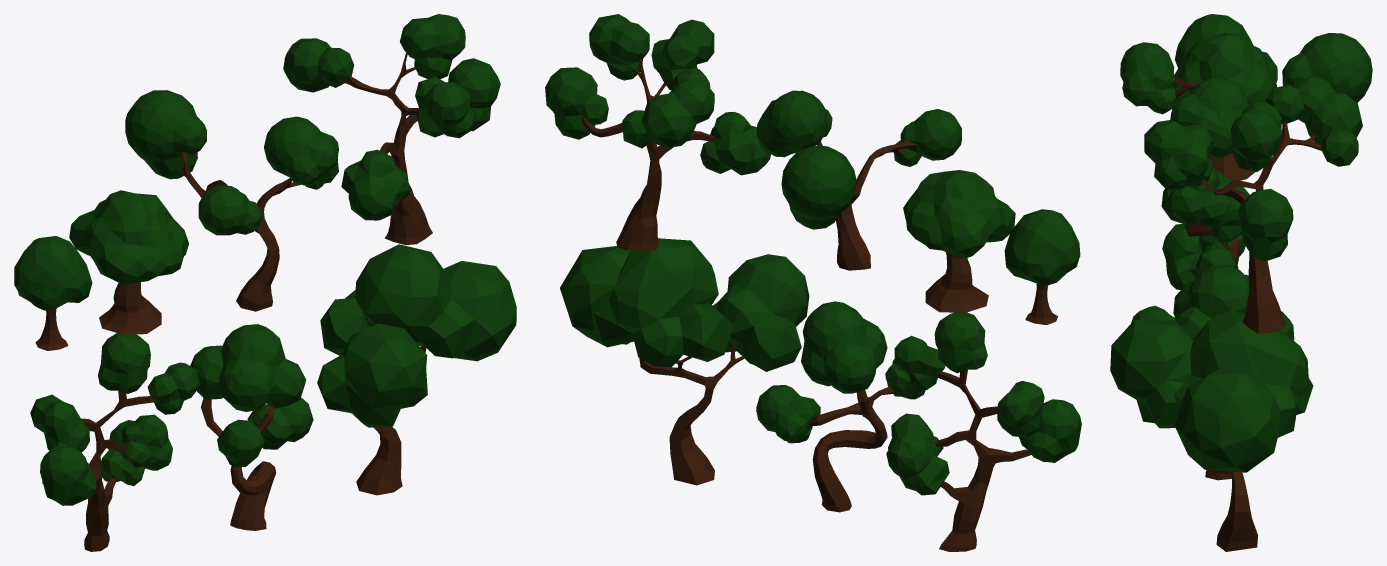
Rendered from free lowpoly trees pack.obj.
The picture shows the model from 3 angles, left to right: view 1: azimuth 30°, elevation 25°; view 2: azimuth 150°, elevation 25°; view 3: azimuth 270°, elevation 25°; orthographic projection. The views are drawn at different scales.
Parts seen in each view (by area): view 1: LowPoly_Tree_07_lowpoly_tree_04_Plane.012, LowPoly_Tree_04_lowpoly_tree_05_Mesh.001, LowPoly_Tree_05_lowpoly_tree_03_Cube, LowPoly_Tree_03_lowpoly_tree_01_Plane.013, LowPoly_Tree_06_lowpoly_tree_02_Mesh.005, LowPoly_Tree_02_Cube.000, LowPoly_Tree_01_Plane_Plane.000; view 2: LowPoly_Tree_07_lowpoly_tree_04_Plane.012, LowPoly_Tree_04_lowpoly_tree_05_Mesh.001, LowPoly_Tree_05_lowpoly_tree_03_Cube, LowPoly_Tree_03_lowpoly_tree_01_Plane.013, LowPoly_Tree_06_lowpoly_tree_02_Mesh.005, LowPoly_Tree_02_Cube.000, LowPoly_Tree_01_Plane_Plane.000; view 3: LowPoly_Tree_07_lowpoly_tree_04_Plane.012, LowPoly_Tree_04_lowpoly_tree_05_Mesh.001, LowPoly_Tree_03_lowpoly_tree_01_Plane.013, LowPoly_Tree_02_Cube.000, LowPoly_Tree_06_lowpoly_tree_02_Mesh.005, LowPoly_Tree_05_lowpoly_tree_03_Cube, LowPoly_Tree_01_Plane_Plane.000.
Part boxes in pixels (box(x1,y1,x2,y2)): LowPoly_Tree_07_lowpoly_tree_04_Plane.012: box(317, 244, 516, 495); LowPoly_Tree_04_lowpoly_tree_05_Mesh.001: box(283, 14, 500, 245); LowPoly_Tree_05_lowpoly_tree_03_Cube: box(30, 333, 199, 551); LowPoly_Tree_03_lowpoly_tree_01_Plane.013: box(125, 90, 338, 311); LowPoly_Tree_06_lowpoly_tree_02_Mesh.005: box(190, 324, 313, 530); LowPoly_Tree_02_Cube.000: box(69, 190, 188, 334); LowPoly_Tree_01_Plane_Plane.000: box(14, 236, 92, 350); LowPoly_Tree_07_lowpoly_tree_04_Plane.012: box(560, 238, 809, 485); LowPoly_Tree_04_lowpoly_tree_05_Mesh.001: box(545, 14, 770, 250); LowPoly_Tree_05_lowpoly_tree_03_Cube: box(886, 312, 1081, 551); LowPoly_Tree_03_lowpoly_tree_01_Plane.013: box(756, 90, 961, 270); LowPoly_Tree_06_lowpoly_tree_02_Mesh.005: box(756, 301, 925, 512); LowPoly_Tree_02_Cube.000: box(903, 170, 1015, 312); LowPoly_Tree_01_Plane_Plane.000: box(1004, 209, 1080, 325); LowPoly_Tree_07_lowpoly_tree_04_Plane.012: box(1110, 310, 1313, 551); LowPoly_Tree_04_lowpoly_tree_05_Mesh.001: box(1144, 76, 1362, 333); LowPoly_Tree_03_lowpoly_tree_01_Plane.013: box(1120, 33, 1372, 236); LowPoly_Tree_02_Cube.000: box(1173, 32, 1277, 181); LowPoly_Tree_06_lowpoly_tree_02_Mesh.005: box(1131, 265, 1249, 480); LowPoly_Tree_05_lowpoly_tree_03_Cube: box(1162, 187, 1294, 340); LowPoly_Tree_01_Plane_Plane.000: box(1175, 14, 1253, 67).
Size of the model in its own units: 9.95 by 8.44 by 4.3.
